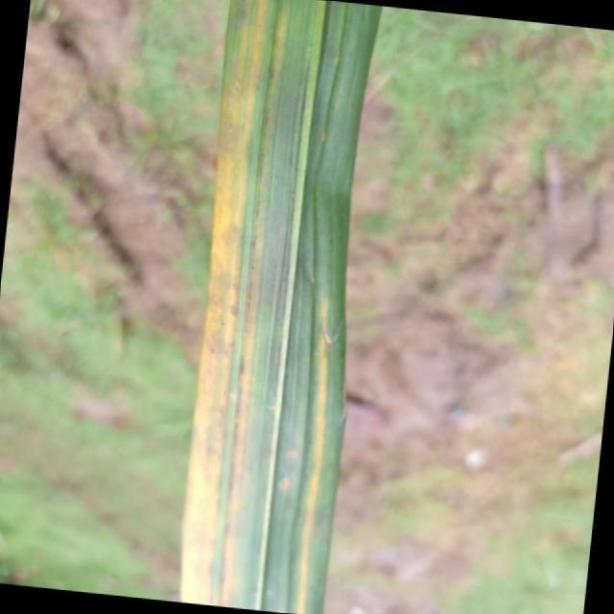Megnesium: (178, 0, 380, 614)
